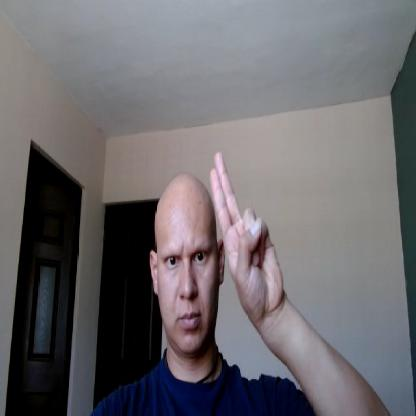U: (208, 148, 284, 322)
